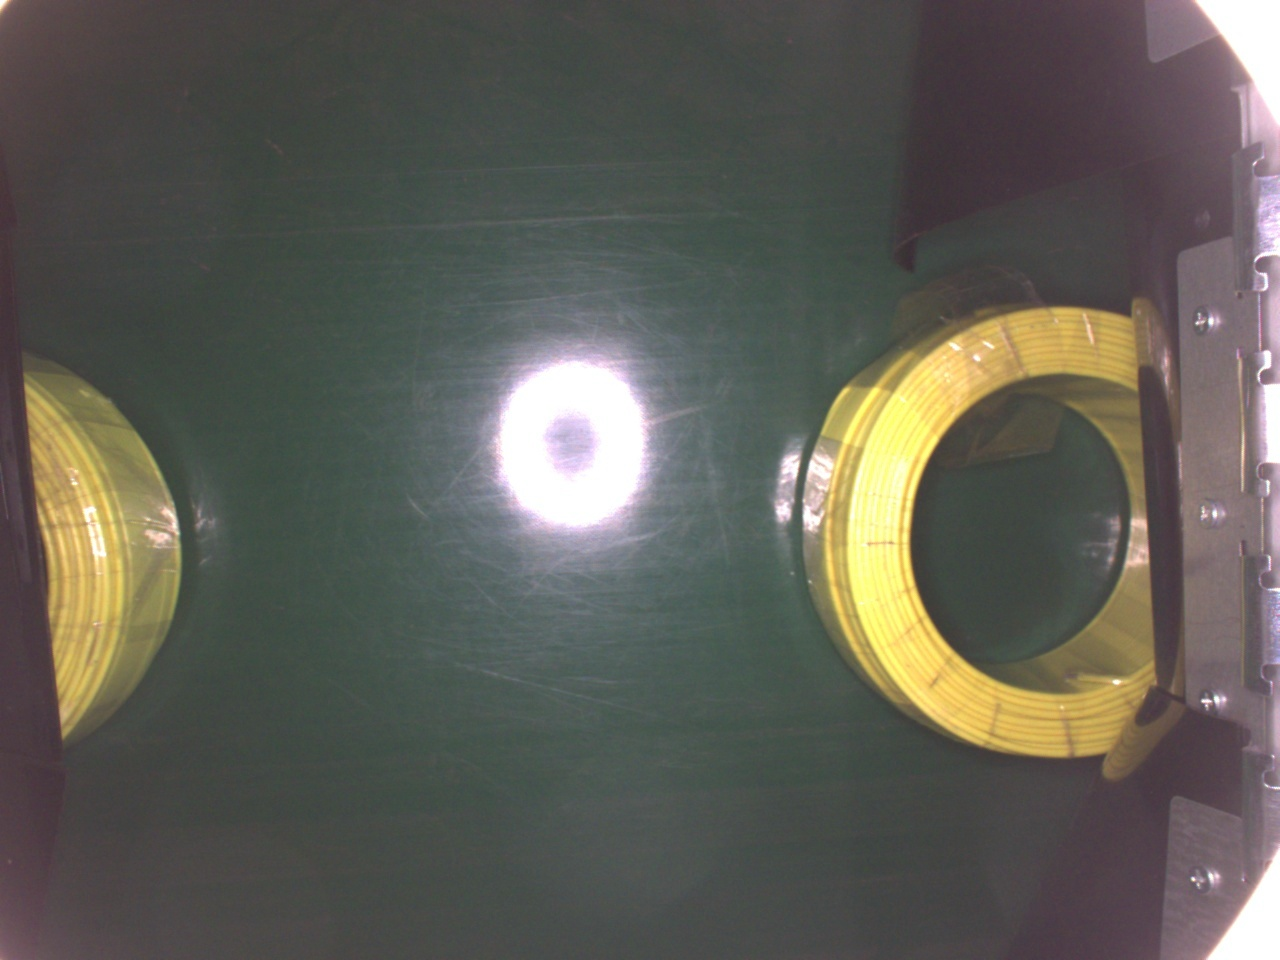yellow: (797, 303, 1158, 760), (23, 344, 188, 754)
